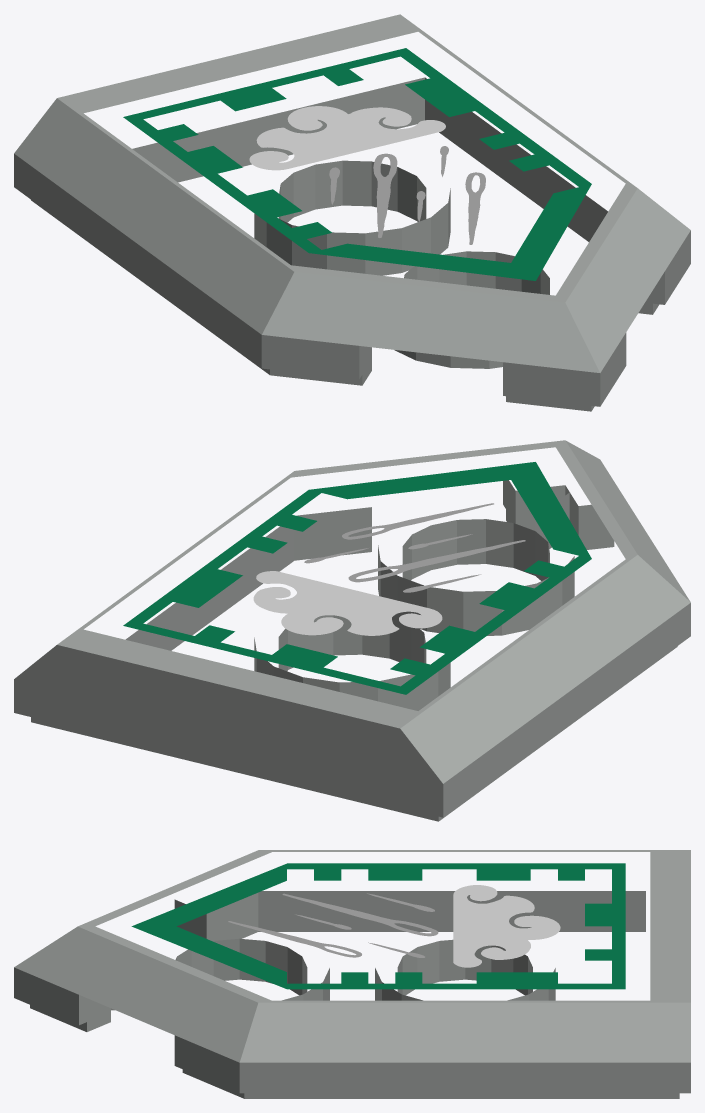
3 views of the same model, one above another, from view 1: azimuth 30°, elevation 25°; view 2: azimuth 150°, elevation 25°; view 3: azimuth 270°, elevation 25° (orthographic). The views are drawn at different scales.
Visible parts, largest first — view 1: world; view 2: world; view 3: world.
Part boxes in pixels (bbox=[...]): world: bbox=[14, 14, 690, 411]; world: bbox=[14, 440, 690, 821]; world: bbox=[14, 850, 690, 1098].
Bounding box in the file's own units: 0.016 × 0.0032 × 0.024.
